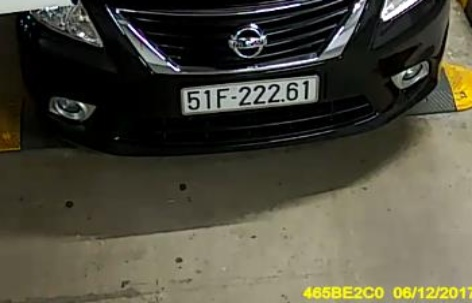plate: (174, 72, 322, 115)
